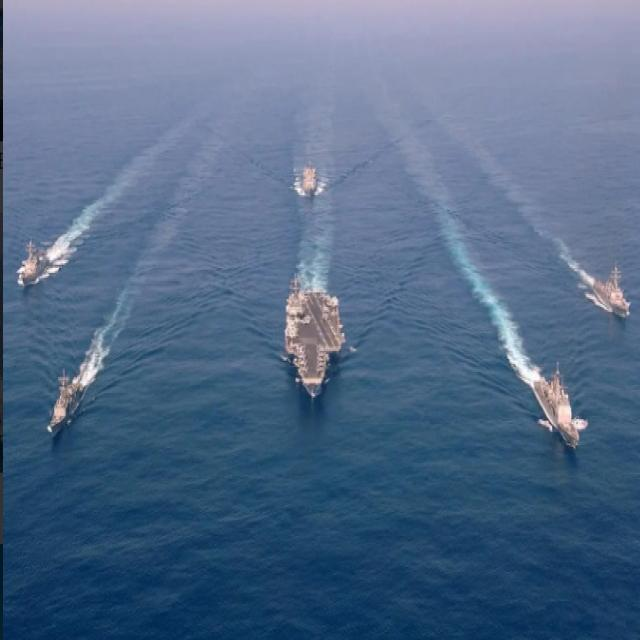navalvessels: (283, 258, 346, 394), (528, 364, 585, 456), (50, 358, 95, 446), (592, 264, 634, 324), (18, 236, 50, 292), (296, 149, 322, 191)
